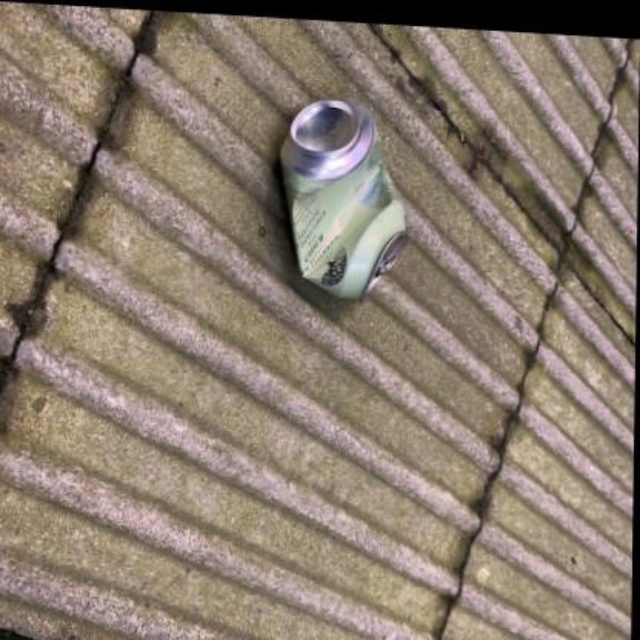trash: (282, 98, 405, 297)
